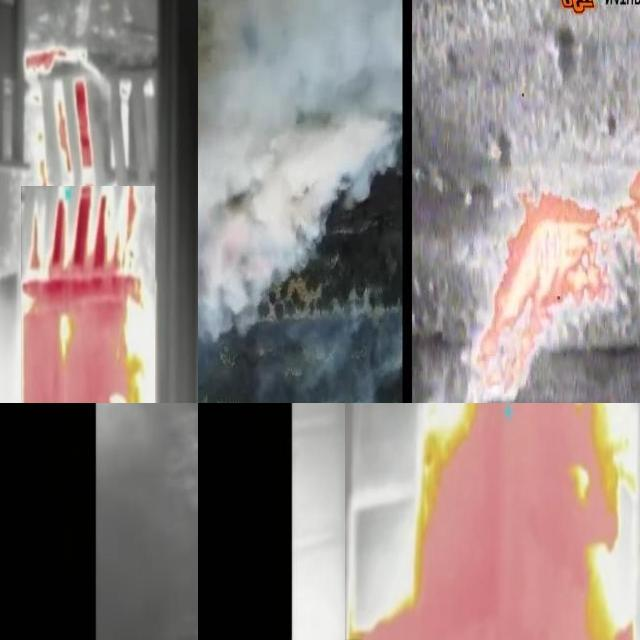fire: (345, 404, 640, 640), (472, 189, 611, 401), (21, 186, 155, 404), (608, 119, 640, 346)
